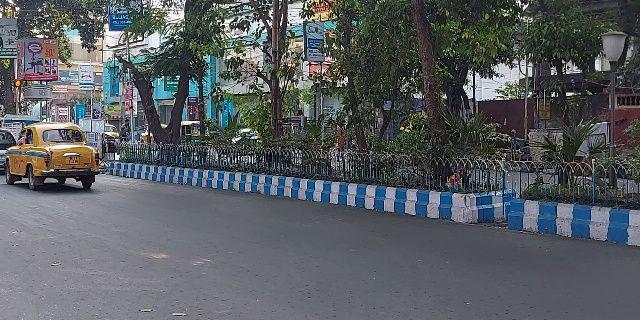Car: (4, 121, 102, 194)
